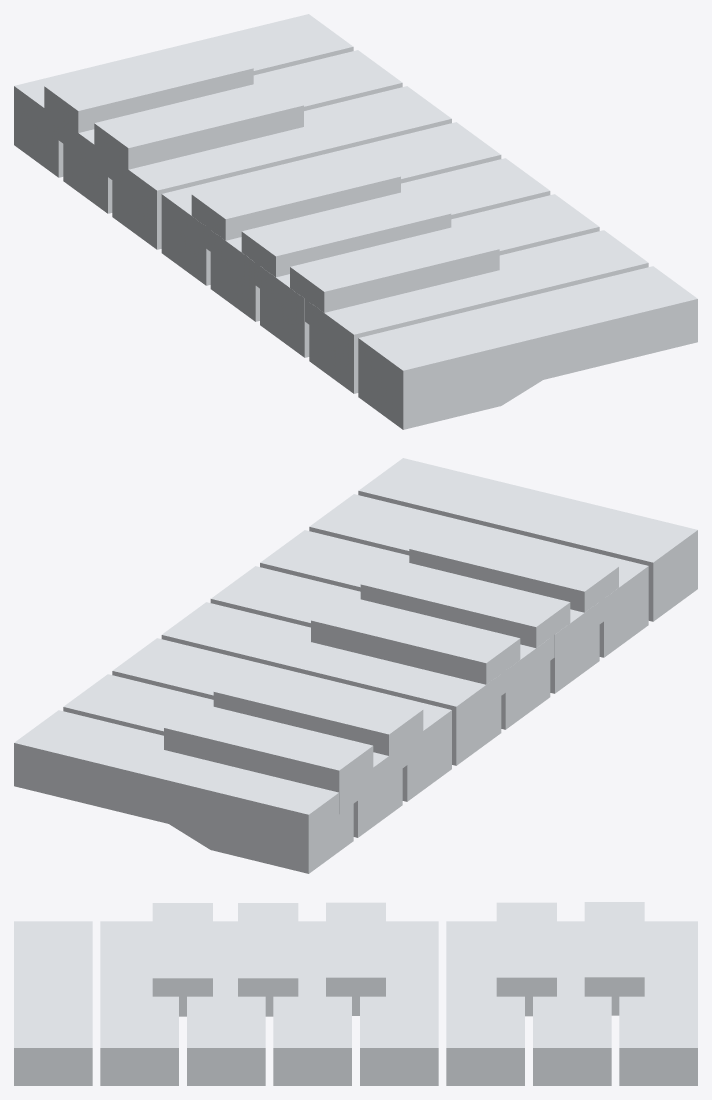
File: fgr_fur_keyboard.fbx
The picture shows the model from 3 angles, top to bottom: view 1: azimuth 30°, elevation 25°; view 2: azimuth 150°, elevation 25°; view 3: azimuth 270°, elevation 25°; orthographic projection. The views are drawn at different scales.
Parts seen in each view (by area): view 1: fgr_fur_keyboard_key, fgr_fur_keyboard_blacks; view 2: fgr_fur_keyboard_key, fgr_fur_keyboard_blacks; view 3: fgr_fur_keyboard_key, fgr_fur_keyboard_blacks.
Part boxes in pixels (left/top/right/bottom): fgr_fur_keyboard_key: left=14, top=14, right=697, bottom=429; fgr_fur_keyboard_blacks: left=44, top=43, right=499, bottom=324; fgr_fur_keyboard_key: left=14, top=458, right=697, bottom=873; fgr_fur_keyboard_blacks: left=164, top=524, right=618, bottom=813; fgr_fur_keyboard_key: left=14, top=921, right=697, bottom=1085; fgr_fur_keyboard_blacks: left=152, top=902, right=644, bottom=1016.
Bounding box in the file's own units: 1586 × 417 × 3625.
1 material, 1 textured.
